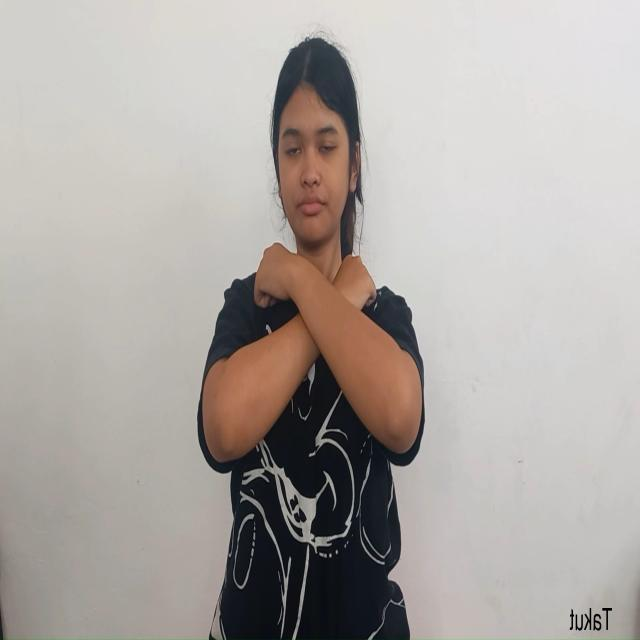Takut -BISINDO-: (224, 240, 403, 462)
